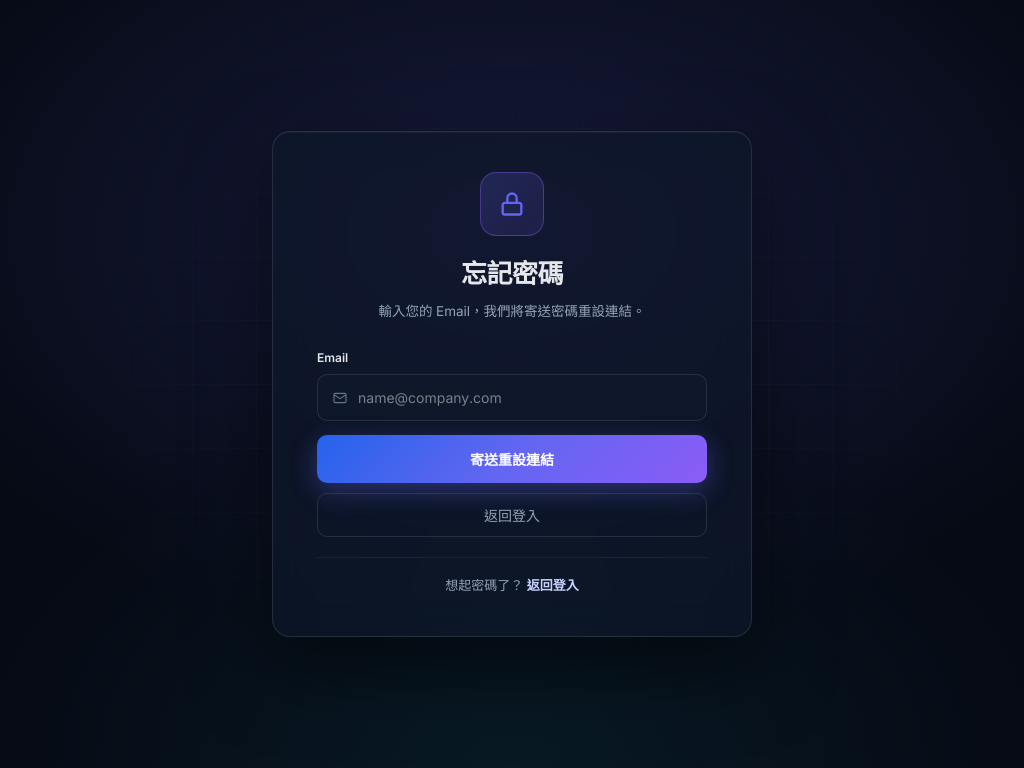
Scenario: ForgotPasswordPage — interaction › shows generic success copy even when API throws (anti-enumeration)
In the field labelled "Email": (525, 398) [358, 387, 692, 408], type "nonexistent@company.com"
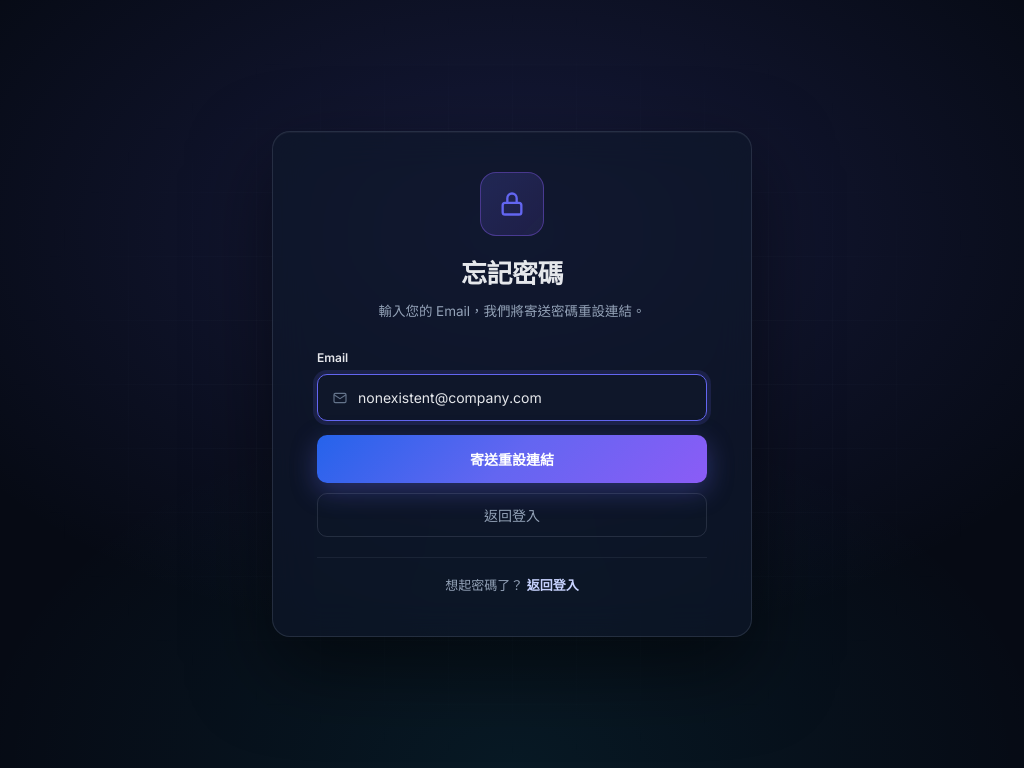
Click the button "寄送重設連結": (512, 459) [317, 435, 707, 483]
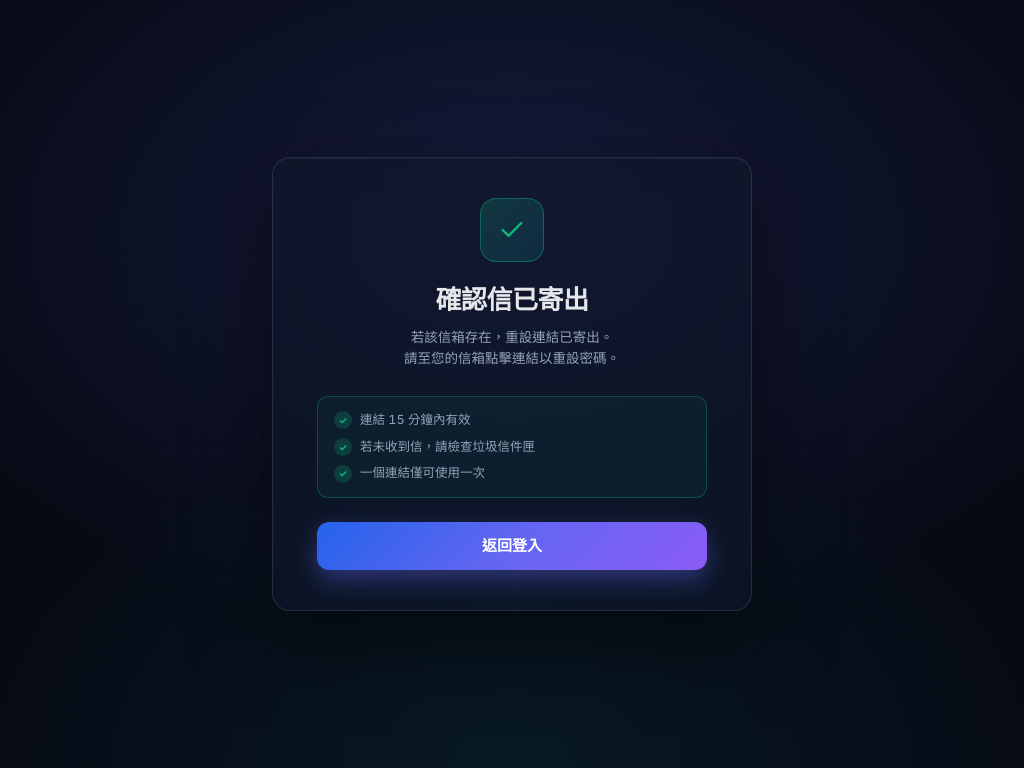
Check: the heading "確認信已寄出" is shown, box [436, 284, 588, 315]
Check: the message shows "若該信箱存在", box [411, 329, 613, 345]
